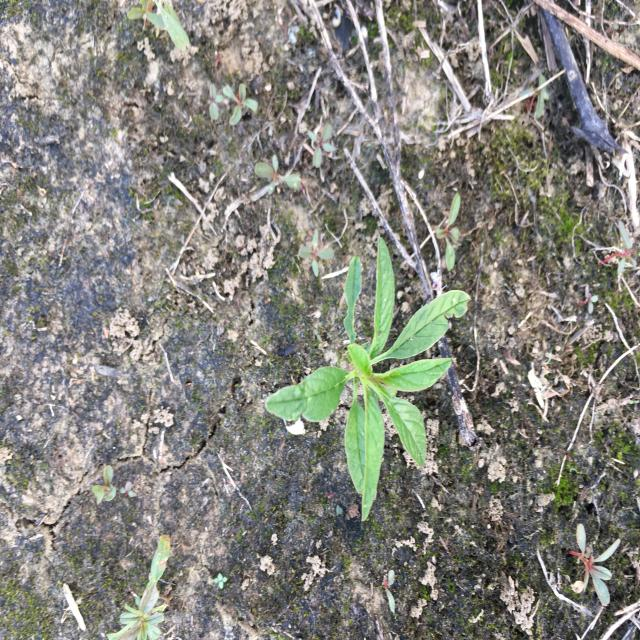Waterhemp: (262, 234, 473, 525)
